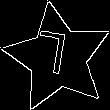L_S: (38, 31, 77, 85)
